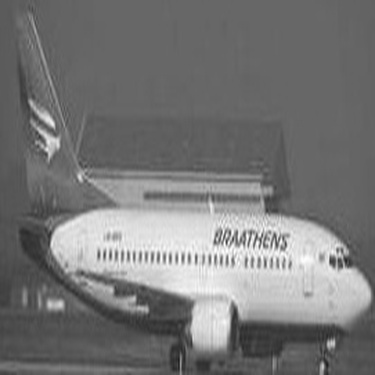airplane: (10, 18, 368, 360)
